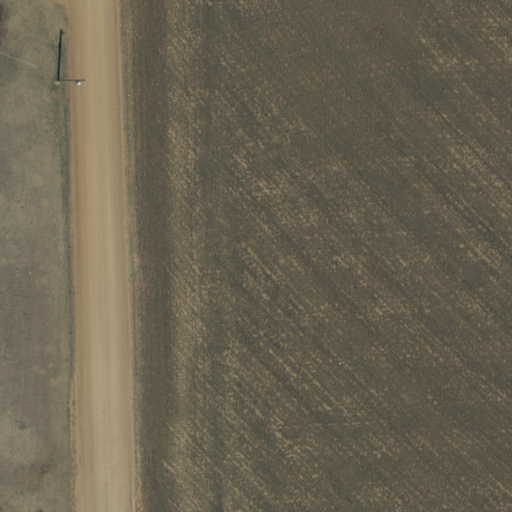DT: (47, 63, 90, 100)
